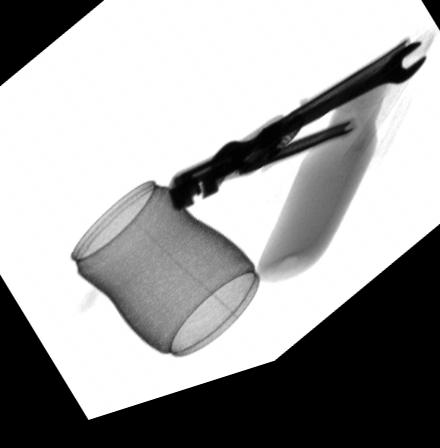Pliers: (163, 63, 411, 227)
Wrench: (204, 67, 429, 196)
